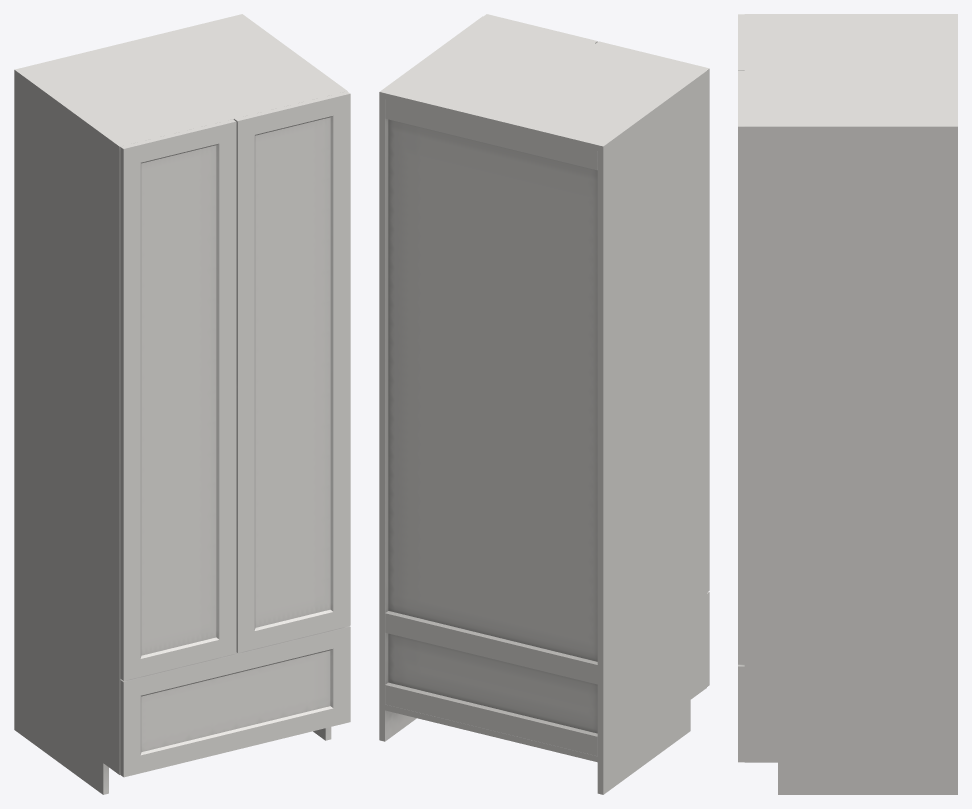
The model's file is tall-2-door-1-drawer-doors-on.glb.
3 renders of one model, left to right at view 1: azimuth 30°, elevation 25°; view 2: azimuth 150°, elevation 25°; view 3: azimuth 270°, elevation 25°, orthographic. The views are drawn at different scales.
Parts seen in each view (by area): view 1: part_21, part_0; view 2: part_0, part_21; view 3: part_0, part_21.
Boxes of the visible parts, x1=… form: part_21: x1=120, y1=91, x2=350, y2=777; part_0: x1=14, y1=14, x2=347, y2=794; part_0: x1=379, y1=16, x2=706, y2=794; part_21: x1=484, y1=14, x2=709, y2=686; part_0: x1=744, y1=14, x2=957, y2=794; part_21: x1=738, y1=14, x2=744, y2=762.
Size of the model in its own units: 0.7621 by 2.11 by 0.6287.
3 materials, 2 textured.
